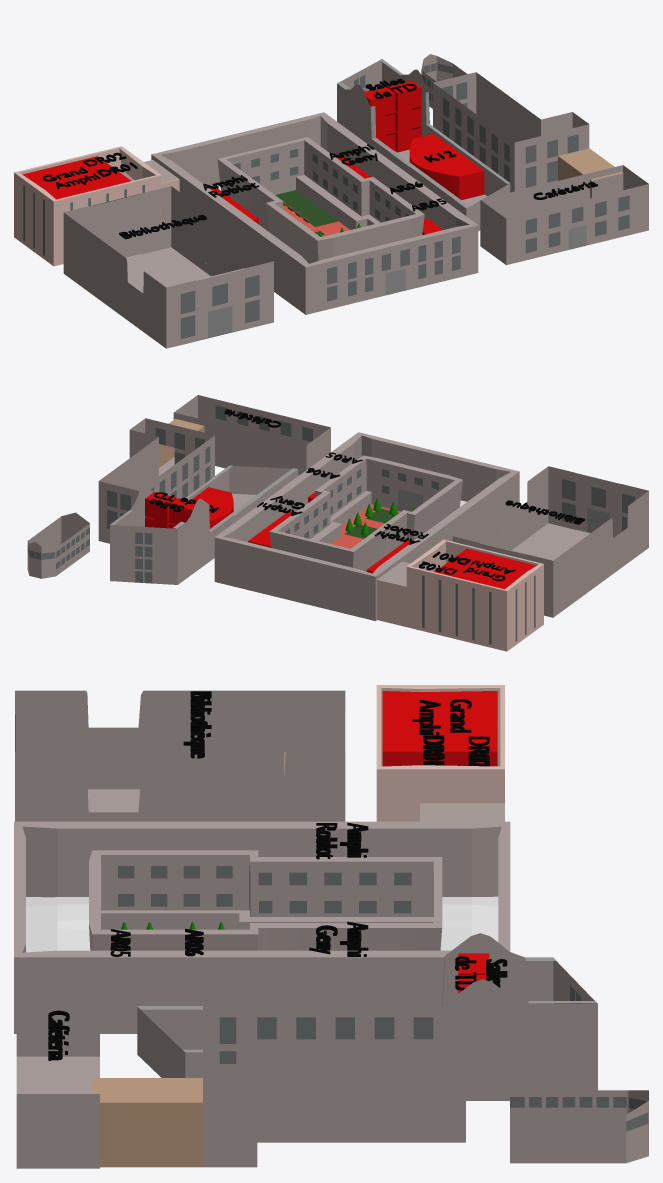
Rendered from amphis3.glb.
The picture shows the model from 3 angles, top to bottom: view 1: azimuth 30°, elevation 25°; view 2: azimuth 150°, elevation 25°; view 3: azimuth 270°, elevation 25°; orthographic projection. The views are drawn at different scales.
Parts seen in each view (by area): view 1: Bâtiment principal, Cube.001, Cube.006, Cube.005, Cube, Cube.004, Roblot.005, Geny.003, Roblot.003, toits, sol fac, Roblot.004 (+3 smaller); view 2: Bâtiment principal, Cube.001, Cube, Cube.004, Cube.006, Cube.005, Cube.007, Geny.003, sol fac, toits, Roblot.005, Roblot.003 (+6 smaller); view 3: Bâtiment principal, Cube.006, Cube.001, Cube.004, Cube.005, Cube.007, Cube, Geny.003, toits, Roblot, Geny.005, GA (+3 smaller).
Boxes of the visible parts, left/top/right/bottom form: Bâtiment principal: left=151, top=112, right=478, bottom=314; Cube.001: left=63, top=186, right=273, bottom=348; Cube.006: left=433, top=72, right=623, bottom=198; Cube.005: left=480, top=165, right=648, bottom=265; Cube: left=14, top=146, right=179, bottom=266; Cube.004: left=337, top=60, right=510, bottom=231; Roblot.005: left=409, top=134, right=484, bottom=199; Geny.003: left=22, top=156, right=131, bottom=199; Roblot.003: left=388, top=80, right=421, bottom=152; toits: left=144, top=59, right=509, bottom=275; sol fac: left=275, top=190, right=360, bottom=236; Roblot.004: left=364, top=87, right=395, bottom=153; Bâtiment principal: left=214, top=432, right=519, bottom=620; Cube.001: left=452, top=466, right=648, bottom=617; Cube: left=377, top=539, right=543, bottom=651; Cube.004: left=110, top=466, right=298, bottom=584; Cube.006: left=98, top=418, right=214, bottom=543; Cube.005: left=173, top=395, right=330, bottom=475; Cube.007: left=27, top=512, right=89, bottom=578; Geny.003: left=434, top=548, right=536, bottom=589; sol fac: left=331, top=498, right=415, bottom=548; toits: left=110, top=465, right=585, bottom=586; Roblot.005: left=192, top=487, right=233, bottom=531; Roblot.003: left=145, top=492, right=176, bottom=528; Bâtiment principal: left=14, top=821, right=510, bottom=1033; Cube.006: left=93, top=1005, right=465, bottom=1167; Cube.001: left=15, top=690, right=345, bottom=821; Cube.004: left=137, top=933, right=597, bottom=1100; Cube.005: left=16, top=982, right=99, bottom=1168; Cube.007: left=510, top=1090, right=648, bottom=1163; Cube: left=376, top=685, right=504, bottom=821; Geny.003: left=382, top=691, right=497, bottom=766; toits: left=137, top=752, right=597, bottom=1052; Roblot: left=316, top=822, right=368, bottom=859; Geny.005: left=183, top=691, right=211, bottom=758; GA: left=412, top=699, right=471, bottom=735.
Bounding box in the file's own units: 17.59 × 2.69 × 12.02.
